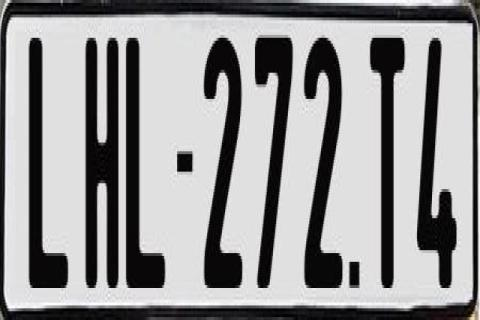0: (255, 38, 298, 306), (300, 35, 346, 285), (414, 35, 457, 297), (204, 35, 243, 299)
H: (82, 38, 118, 297)
L: (124, 38, 164, 297), (29, 32, 68, 291)
T: (370, 32, 406, 282)
